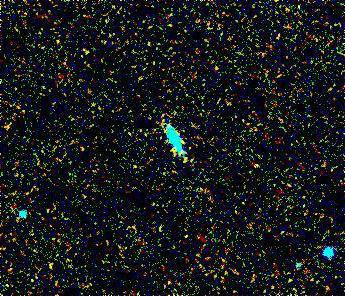star: (246, 151, 276, 181)
